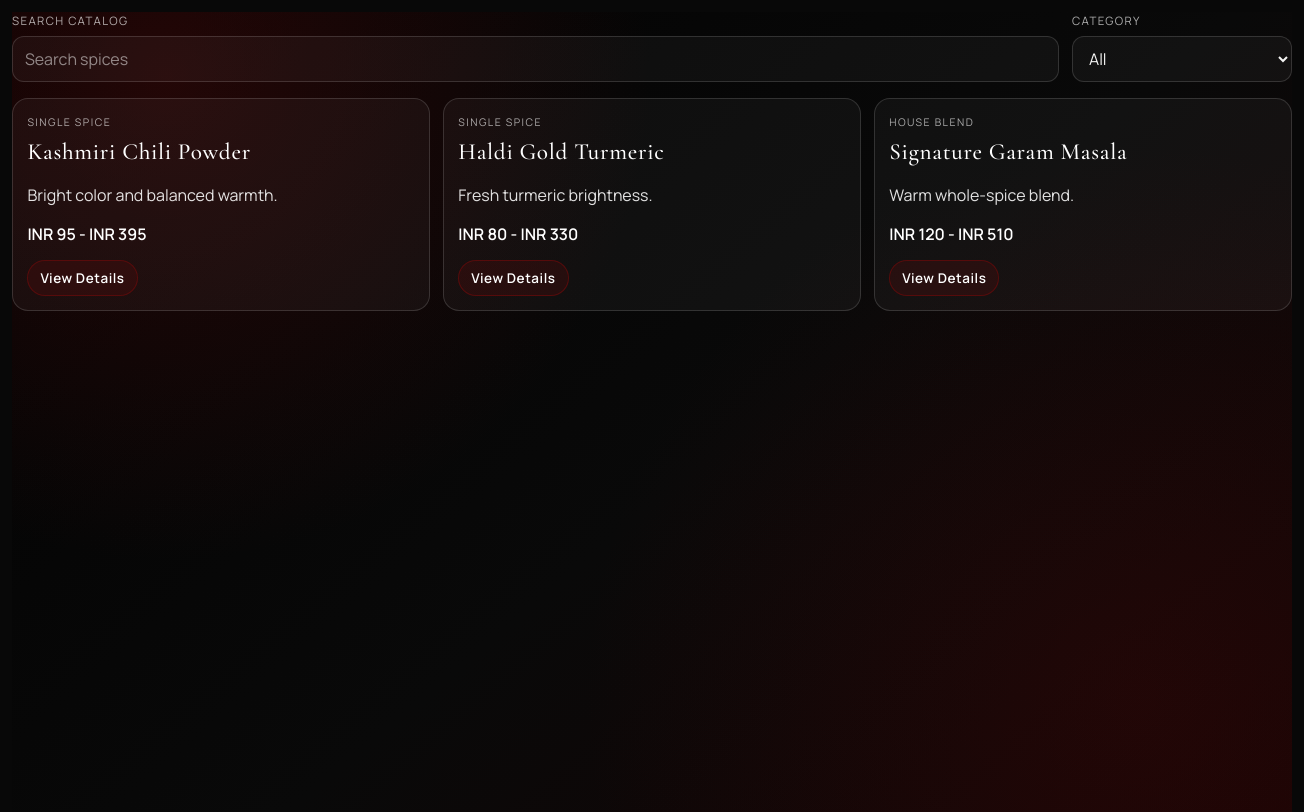
Test case: CatalogShop › filters by category
Expected: the heading "Signature Garam Masala" is shown, top-left (889, 138), bottom-right (1127, 166)
Select "House Blend" in the dropdown labelled "Category" at (1182, 59), box top-left (1072, 36), bottom-right (1292, 82)
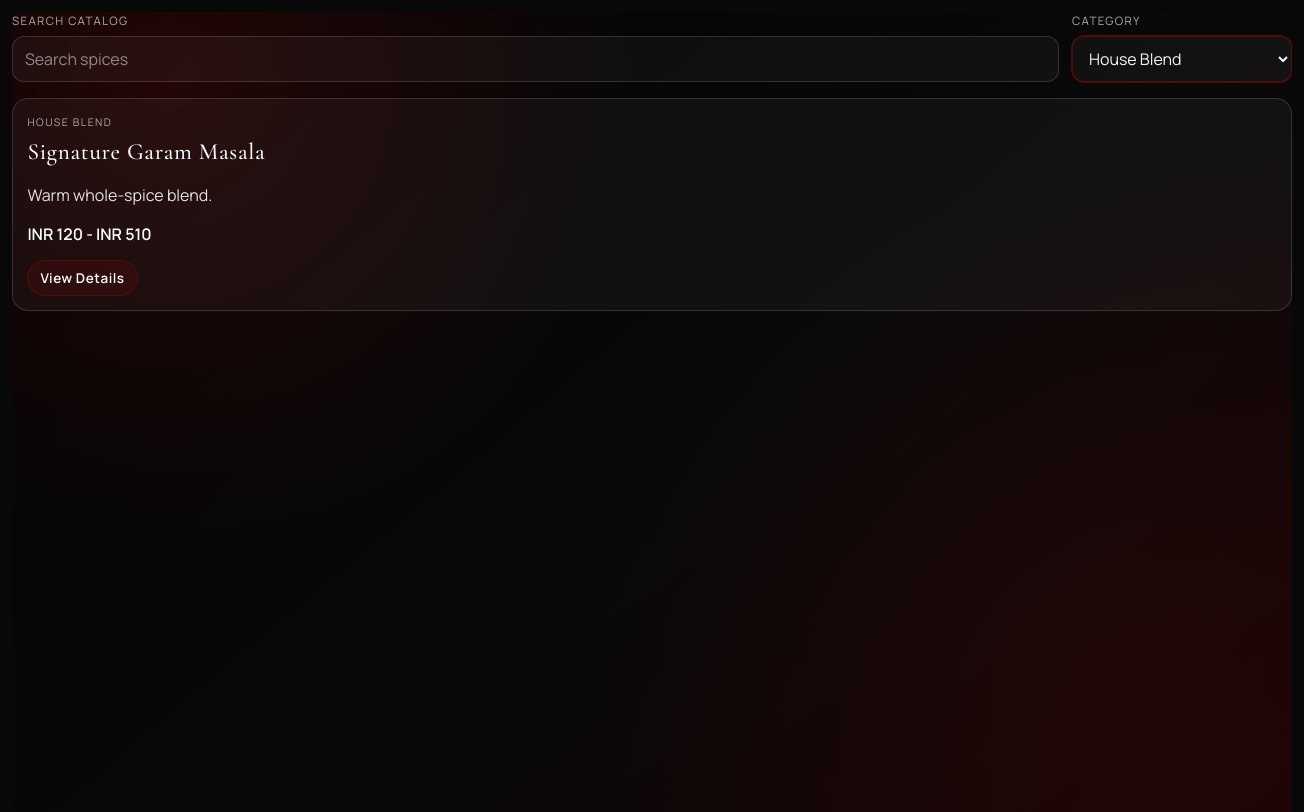
Expected: the heading "Signature Garam Masala" is shown, top-left (27, 138), bottom-right (266, 166)
Expected: the heading "Haldi Gold Turmeric" is gone
